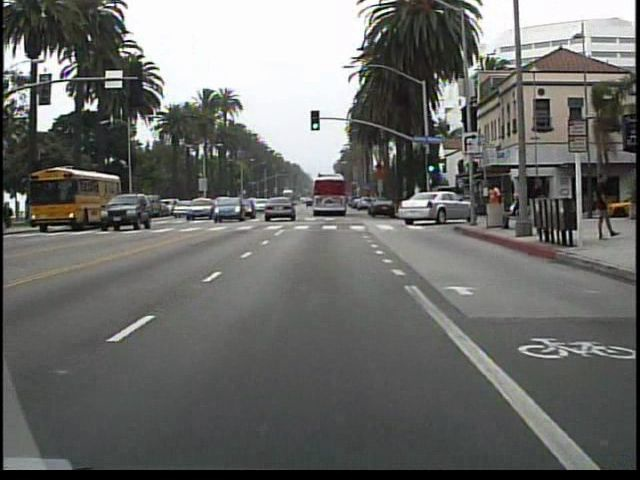person: (589, 169, 615, 244), (529, 177, 549, 229), (502, 187, 520, 235), (485, 180, 502, 227)
